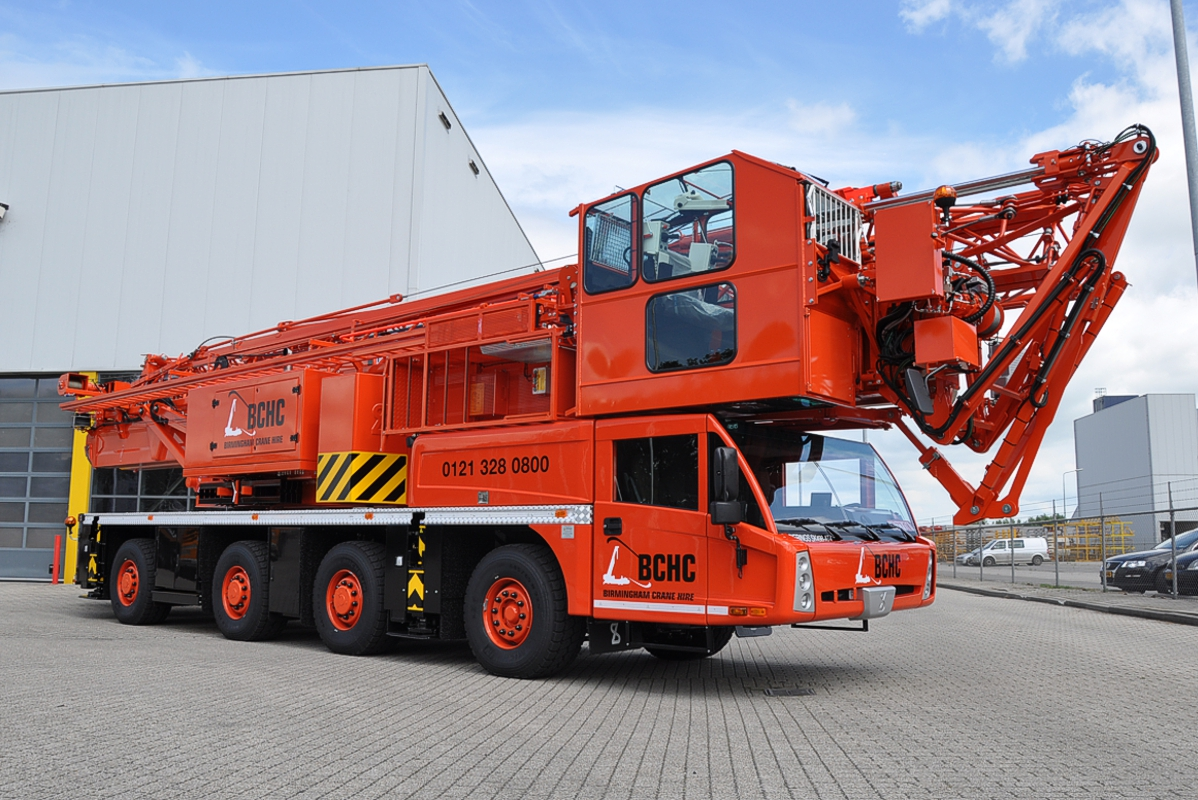truck: (53, 127, 1151, 655)
